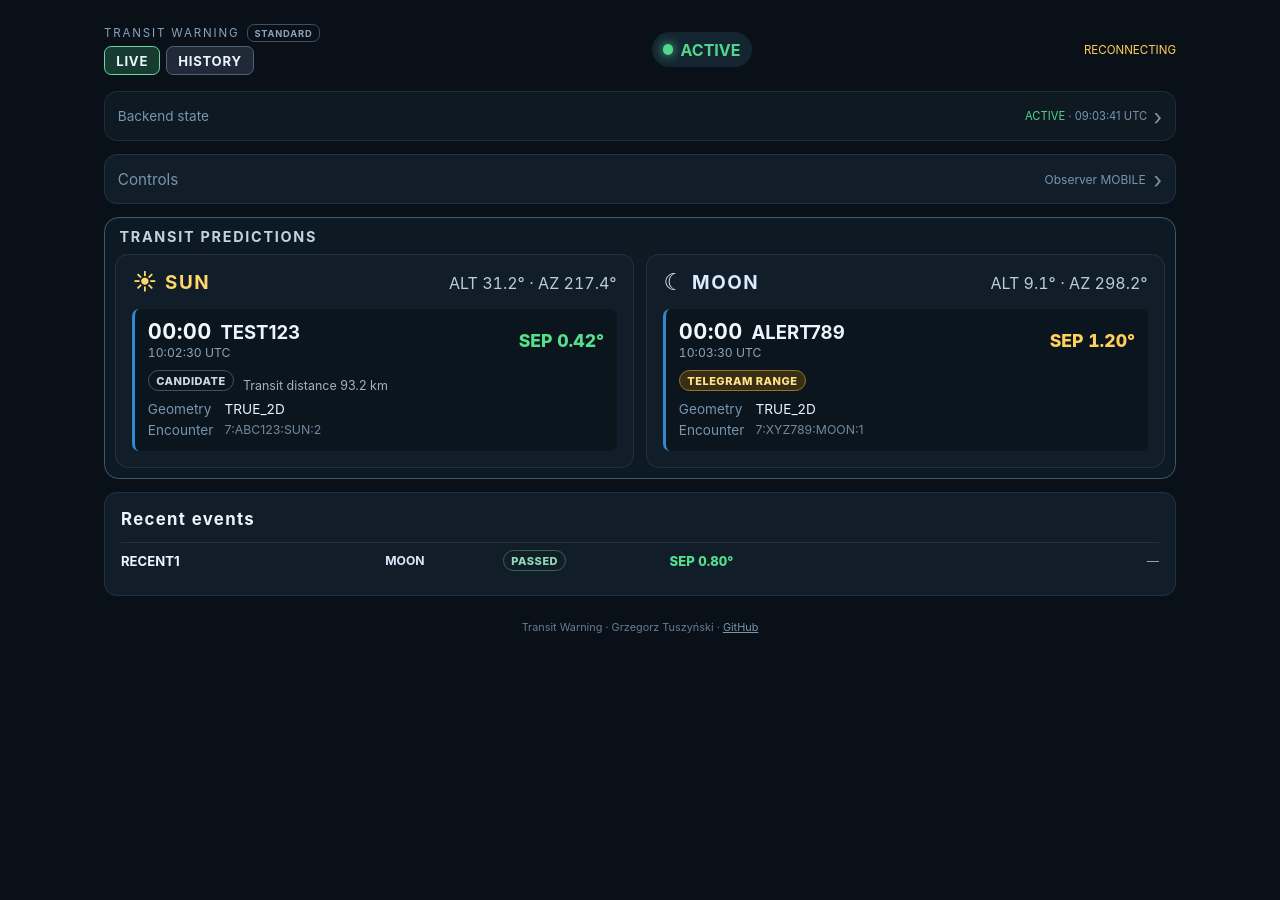
Test: STANDARD final controls › distinguishes secure context true and geolocation availability false
Click the button with aria-label "Expand Controls panel" at {"x": 148, "y": 179}, box x1=105 y1=155 x2=1175 y2=203
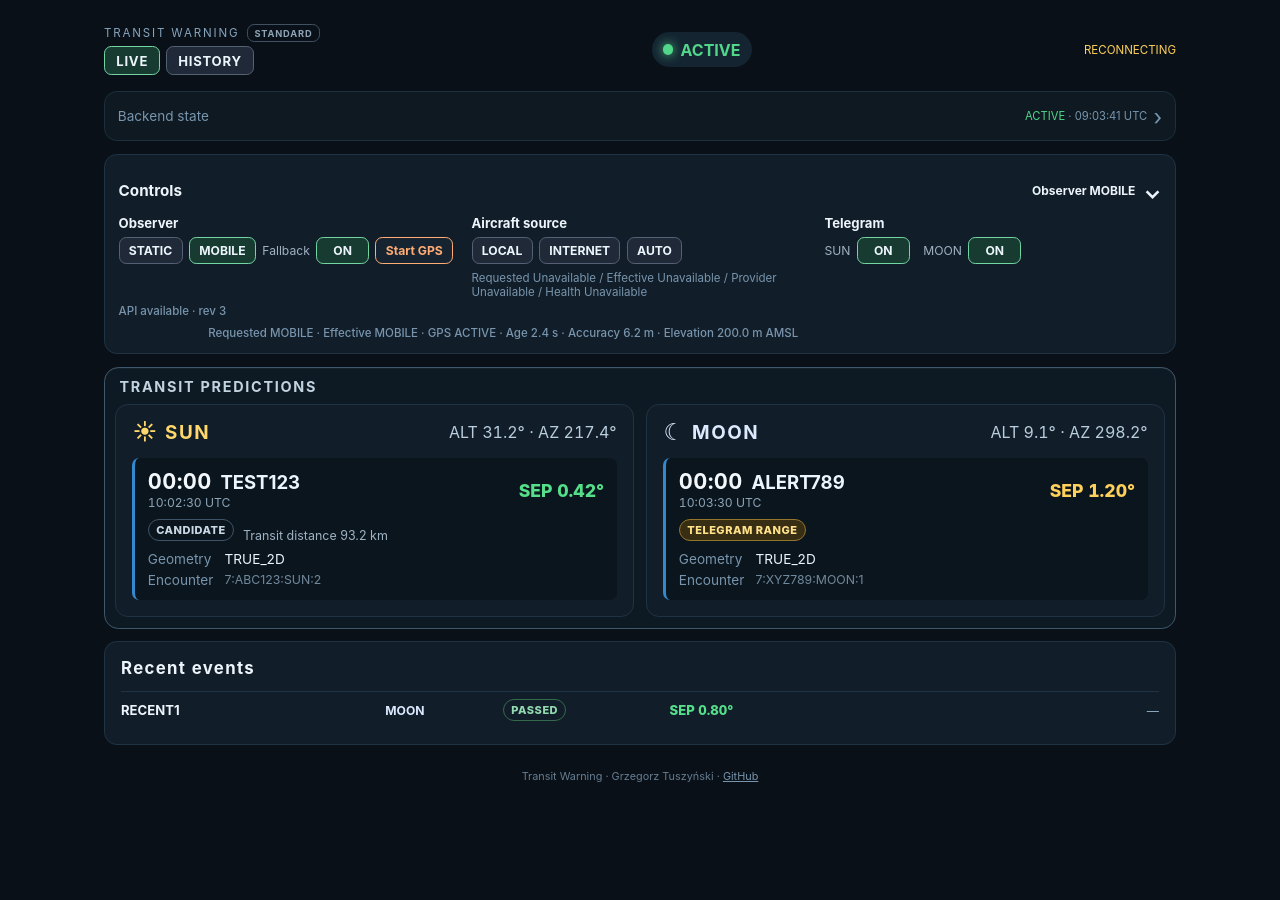
Result: the button "Start GPS" is enabled
Click the button "Start GPS" at {"x": 414, "y": 251}, box x1=376 y1=237 x2=453 y2=264
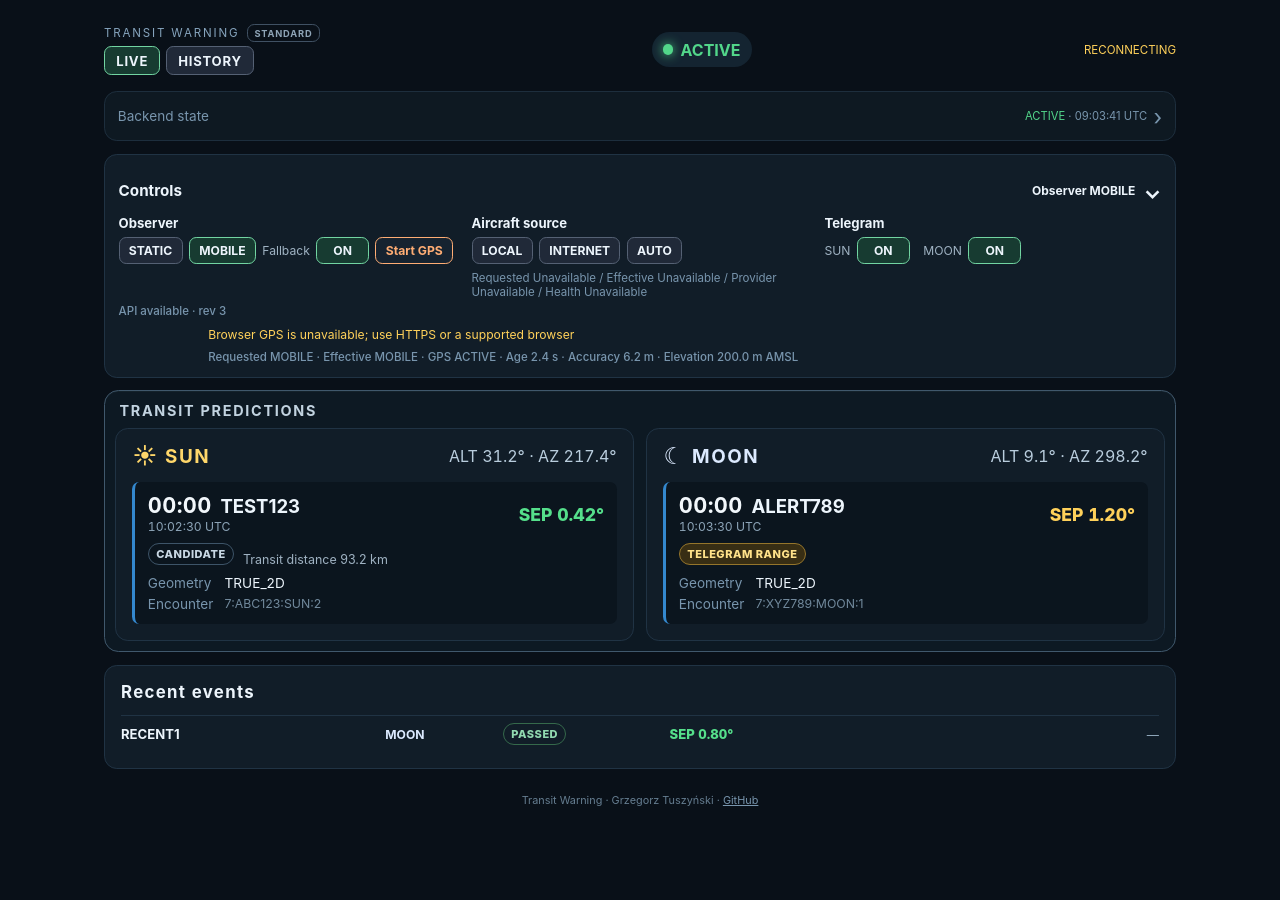
Result: the message "Browser GPS is unavailable; use HTTPS or a supported browser" is shown at x1=208 y1=327 x2=574 y2=342
